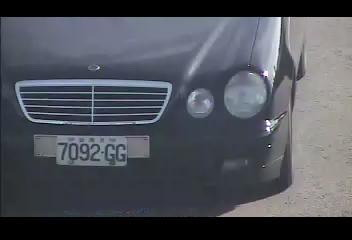plate: (54, 134, 129, 168)
